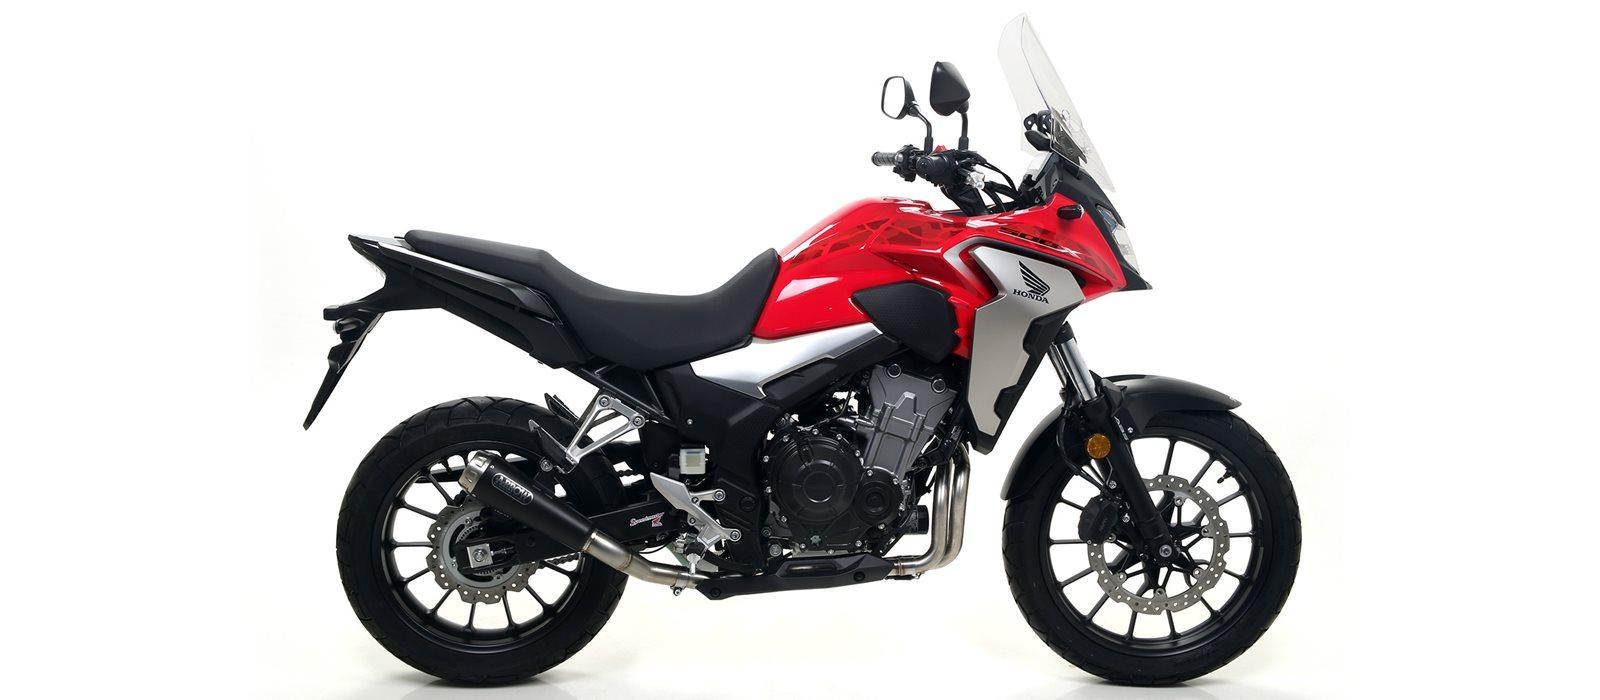engine-chasis: (649, 321, 967, 578)
exhaust: (457, 440, 970, 600)
frontside: (868, 12, 1242, 561)
handlebar: (870, 60, 1063, 216)
motorbike: (305, 13, 1303, 684)
rearside: (302, 234, 713, 548), (453, 531, 578, 574)
seat: (403, 230, 779, 368)
tank: (750, 196, 960, 363)
wheel: (335, 396, 630, 685), (1002, 410, 1303, 687), (1056, 372, 1110, 497), (554, 448, 631, 517)
